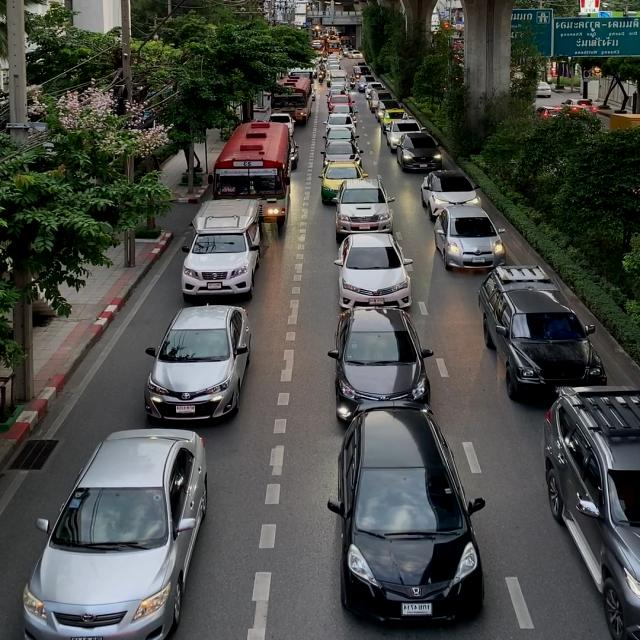Vehicle: (20, 426, 216, 640), (329, 408, 483, 628), (473, 266, 610, 394), (141, 304, 260, 422), (318, 306, 434, 414), (175, 198, 266, 299), (212, 121, 294, 216), (333, 238, 416, 308), (432, 206, 506, 271), (334, 180, 396, 232), (415, 168, 483, 212)
